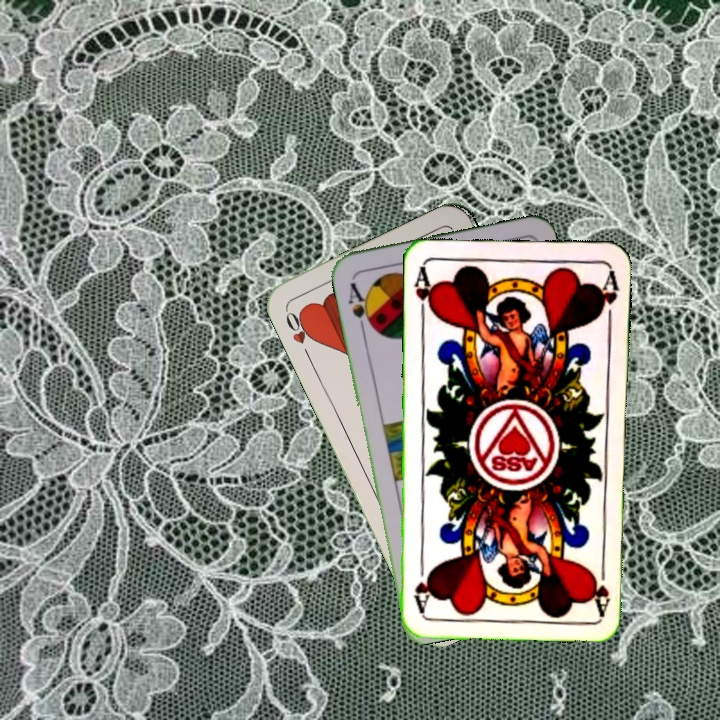HA: (410, 264, 437, 323), (592, 556, 612, 616)
HO: (281, 306, 318, 362)
SA: (344, 278, 376, 334)
